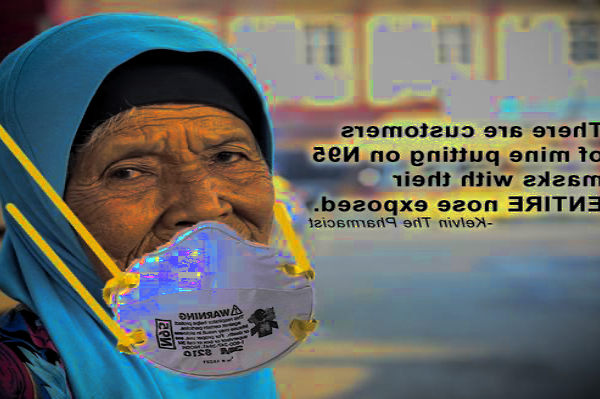mask_weared_incorrect: (73, 128, 276, 307)
